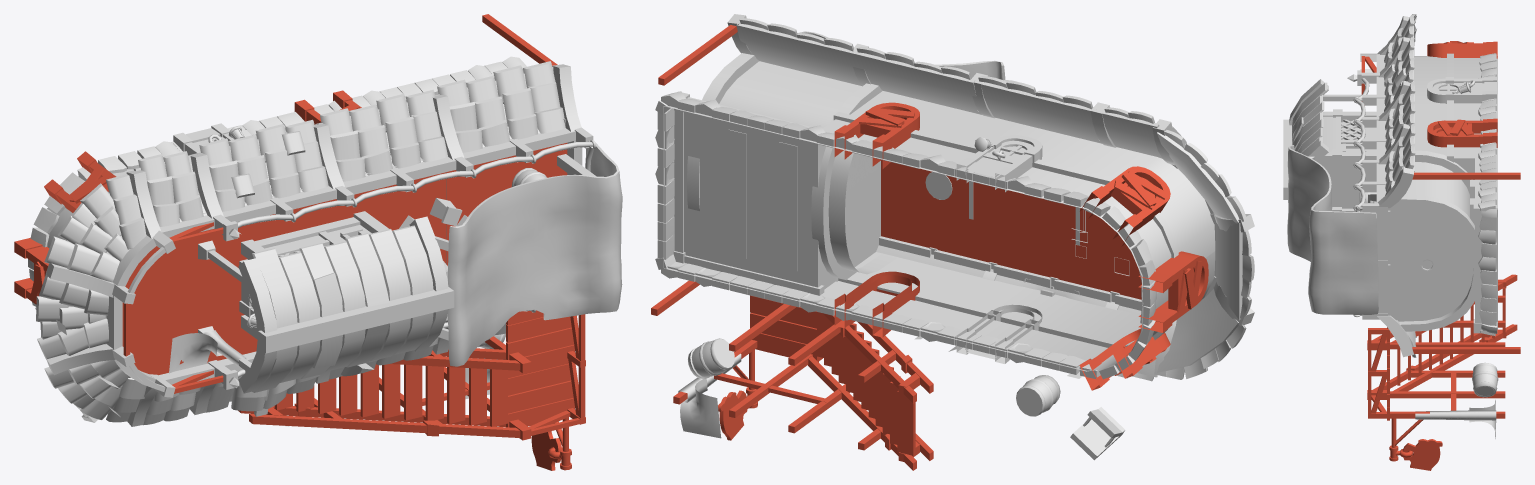
File: Tavern.fbx
The picture shows the model from 3 angles, left to right: view 1: azimuth 30°, elevation 25°; view 2: azimuth 150°, elevation 25°; view 3: azimuth 270°, elevation 25°; orthographic projection. The views are drawn at different scales.
Parts seen in each view (by area): view 1: tavern, sign; view 2: tavern, sign; view 3: tavern, sign.
Part boxes in pixels (x1,y1,x2,y2): tavern: (14,14,622,470); sign: (531,431,561,470); tavern: (651,14,1254,470); sign: (718,390,747,440); tavern: (1283,14,1520,461); sign: (1402,439,1442,470).
Size of the model in its own units: 11.82 by 8.64 by 6.05.
